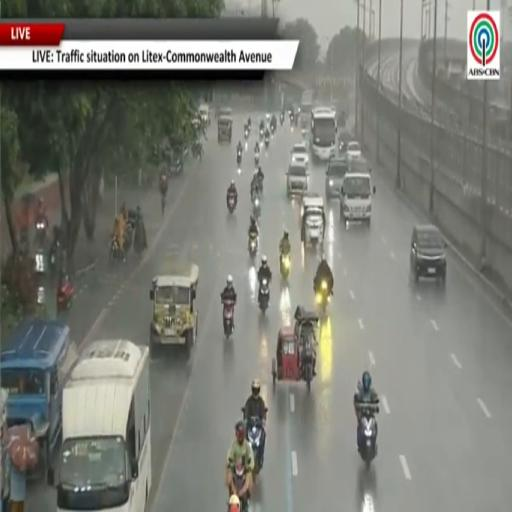bus: (48, 340, 151, 511), (310, 107, 337, 161), (301, 90, 314, 118)
car: (410, 224, 446, 281), (325, 158, 348, 199), (287, 162, 308, 197), (291, 142, 309, 167), (346, 141, 362, 157), (198, 104, 210, 124)
jeepney: (150, 261, 199, 356), (218, 116, 232, 142)
motorcycle: (358, 405, 378, 469), (246, 416, 263, 474), (231, 462, 248, 511), (300, 340, 314, 391), (57, 277, 74, 312), (222, 300, 235, 338), (316, 280, 330, 312), (48, 239, 61, 273), (258, 278, 270, 314), (109, 237, 124, 261), (124, 220, 134, 254), (35, 248, 46, 274), (36, 219, 46, 247), (280, 253, 290, 280), (248, 234, 257, 258), (253, 195, 260, 219), (227, 195, 236, 213), (256, 173, 263, 196), (237, 150, 242, 165), (244, 126, 249, 140), (270, 123, 276, 134), (255, 152, 259, 166), (259, 128, 264, 138), (265, 136, 269, 148), (280, 114, 284, 125), (290, 114, 294, 125), (294, 116, 298, 126)
tricycle: (272, 307, 319, 390)
